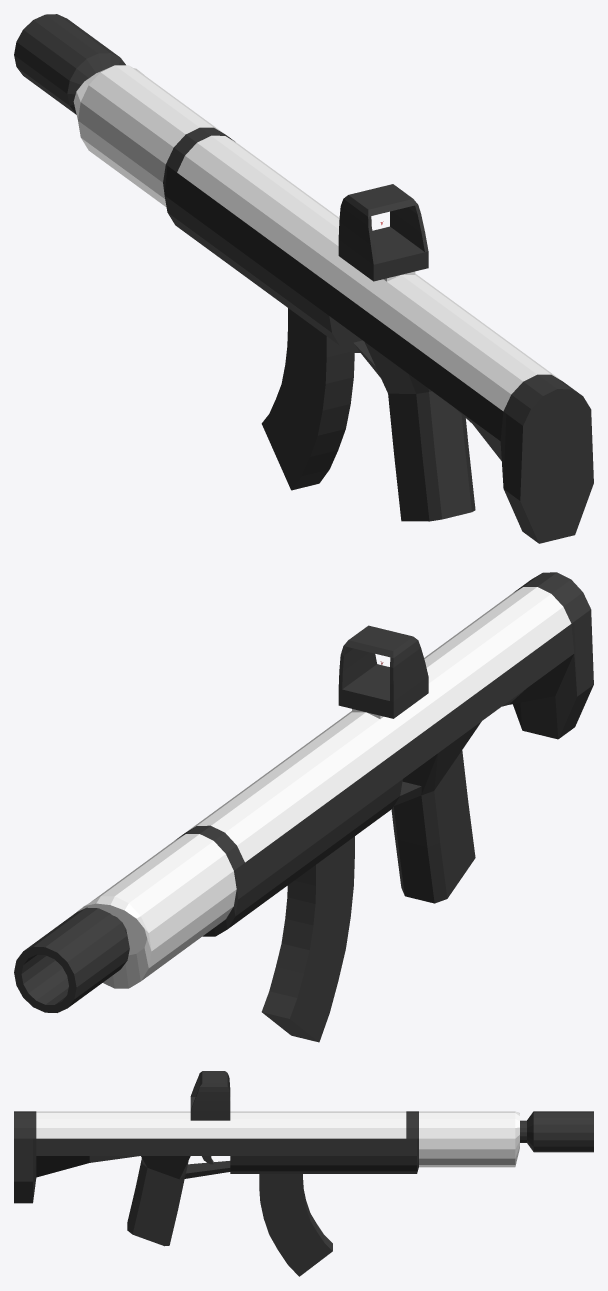
The model's file is flammenwerfer.obj.
3 views of the same model, one above another, from view 1: azimuth 30°, elevation 25°; view 2: azimuth 150°, elevation 25°; view 3: azimuth 270°, elevation 25° (orthographic). The views are drawn at different scales.
Visible parts, largest first — view 1: flammenwerfer; view 2: flammenwerfer; view 3: flammenwerfer.
Boxes of the visible parts, x1=… form: flammenwerfer: x1=14, y1=14, x2=593, y2=543; flammenwerfer: x1=14, y1=572, x2=593, y2=1042; flammenwerfer: x1=14, y1=1071, x2=593, y2=1276.
Size of the model in its own units: 3.1 by 13.91 by 37.33.
Materials: 1 (1 with a texture image).
